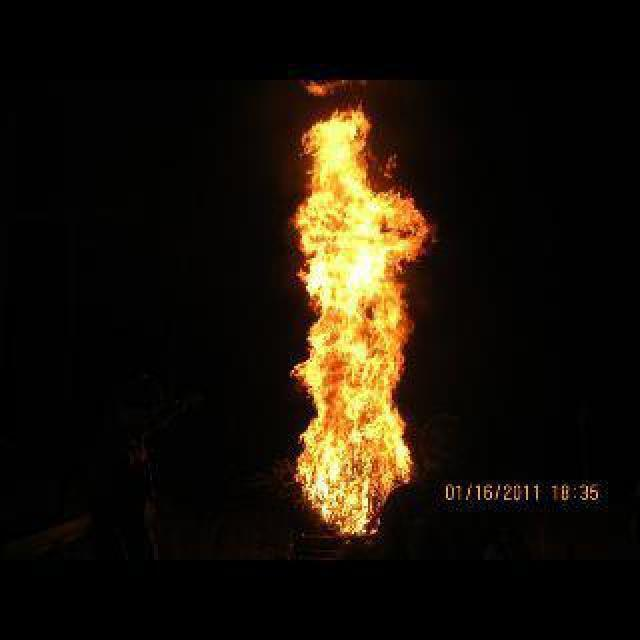Fire: (292, 104, 428, 536)
